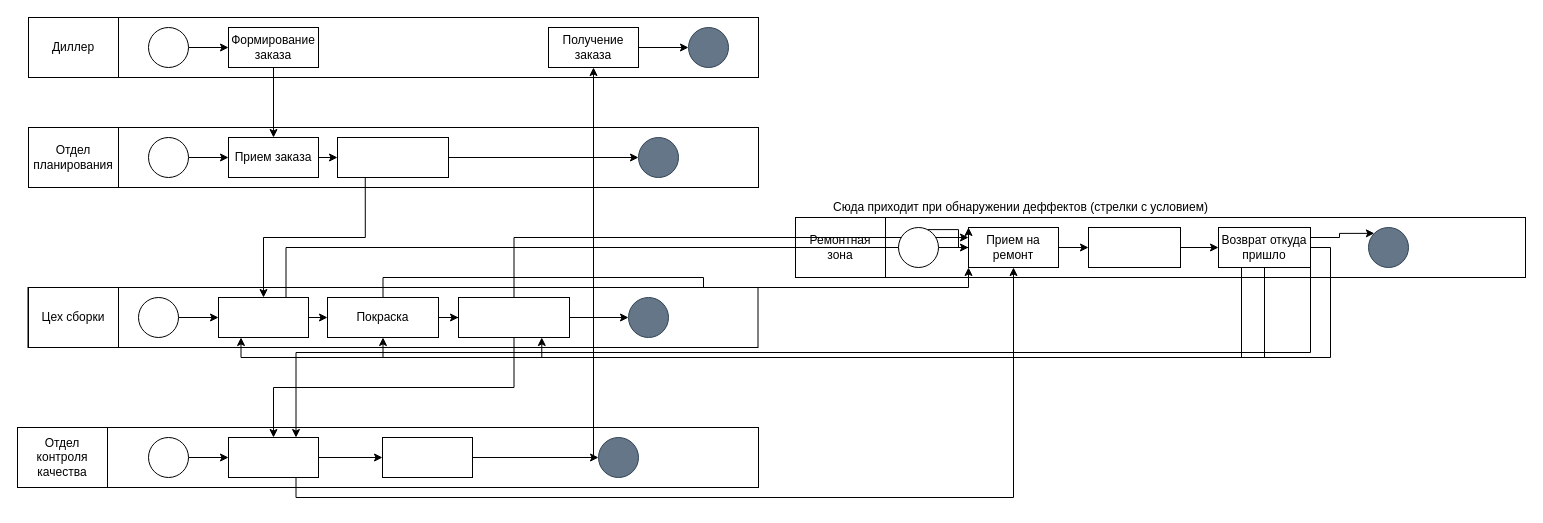
Image size: 1543x523. Some labels were removed from this diagram. Each missing label, with the centre of its shape:
Отгрузка заказчику: the point at 427,457
Производственный план: the point at 392,157
Сборка всего: the point at 514,317
Сборка кузова: the point at 263,317
Стендовые и ходовые испытания: the point at 273,457
Устранение деффекта: the point at 1134,247
